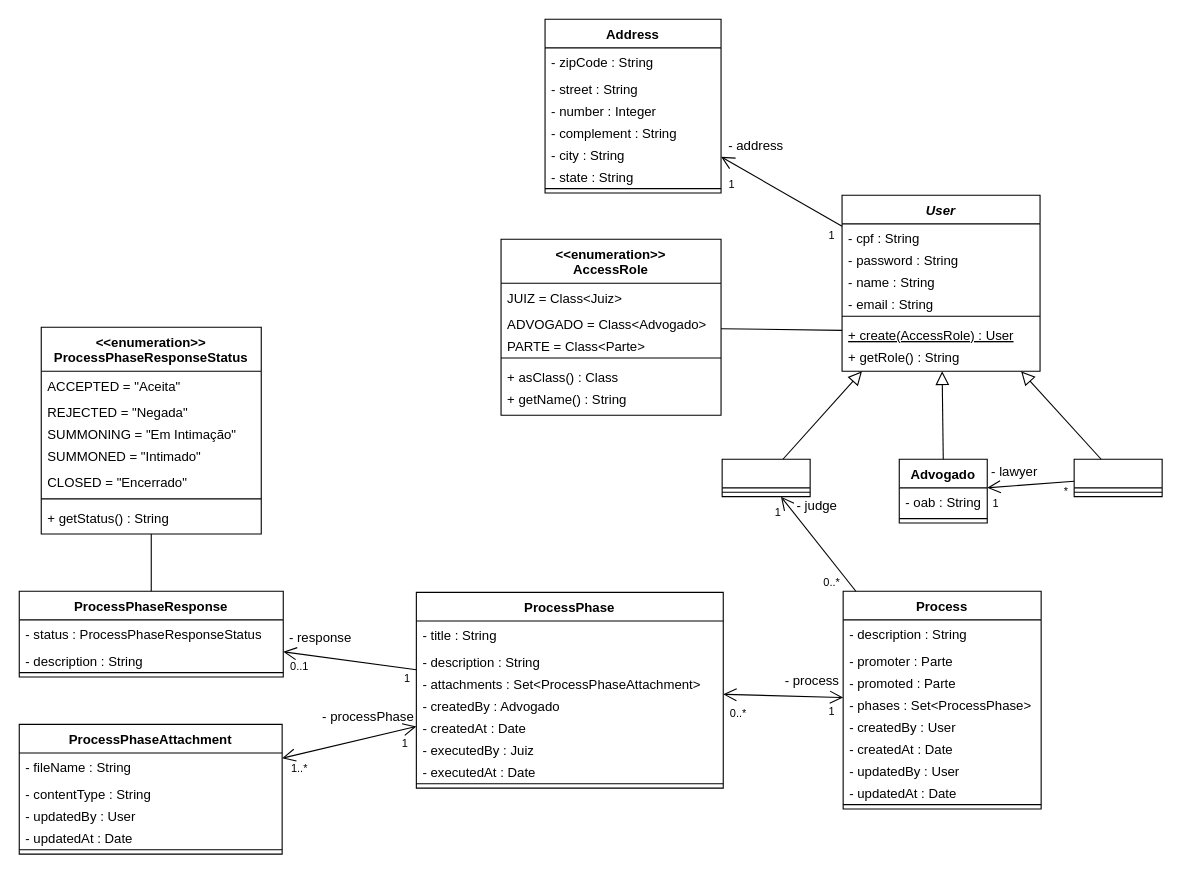
The diagram is 1181 pixels wide and 873 high, and some of its shapes have lost their labels. The centre of each missing label's shape, as x and y in pixels:
"Juiz" goes at (765,477).
"Parte" goes at (1117,477).
